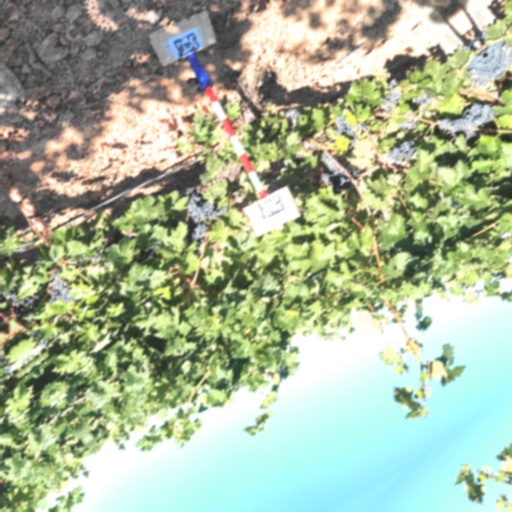QR: (168, 27, 204, 63), (253, 189, 289, 224)
